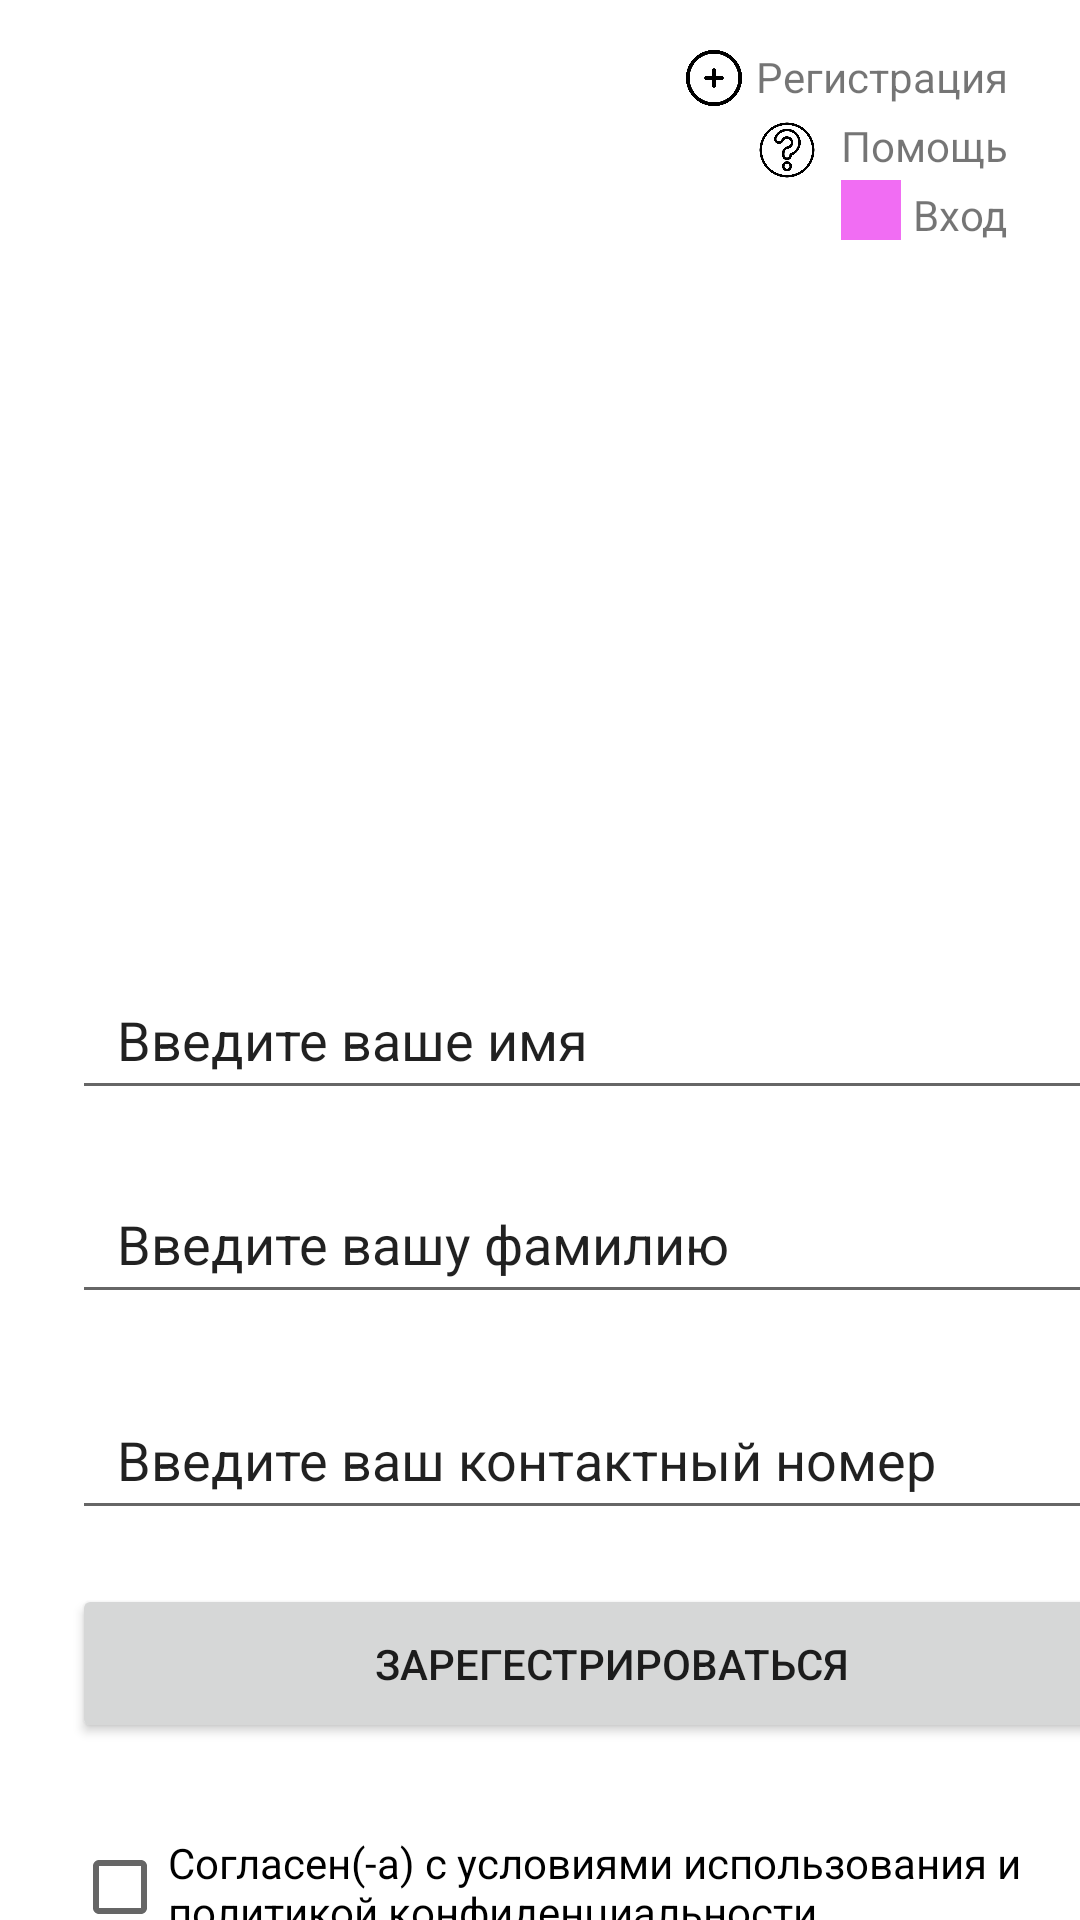

Icon click points for this 1080x1920 phone screenshot, format point (x, y):
free add: point (714, 78)
free question mark: point (787, 150)
